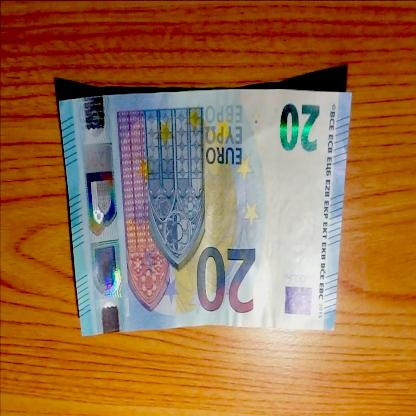euro_banknote: (61, 91, 354, 338)
